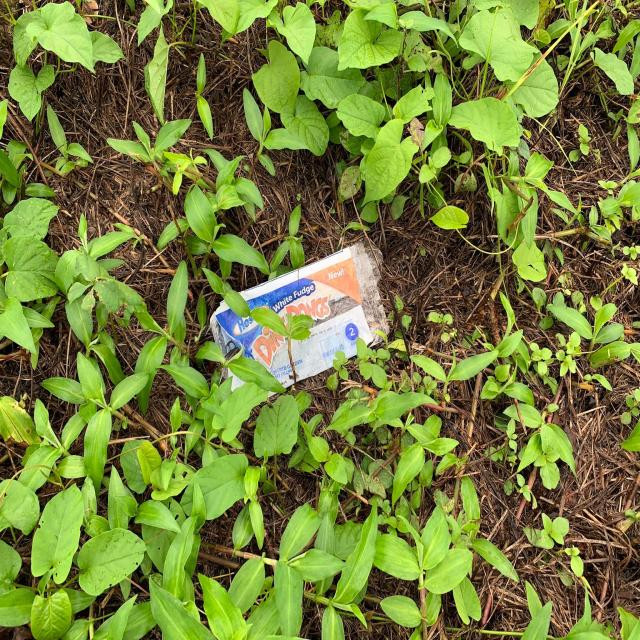litter: (208, 247, 391, 401)
